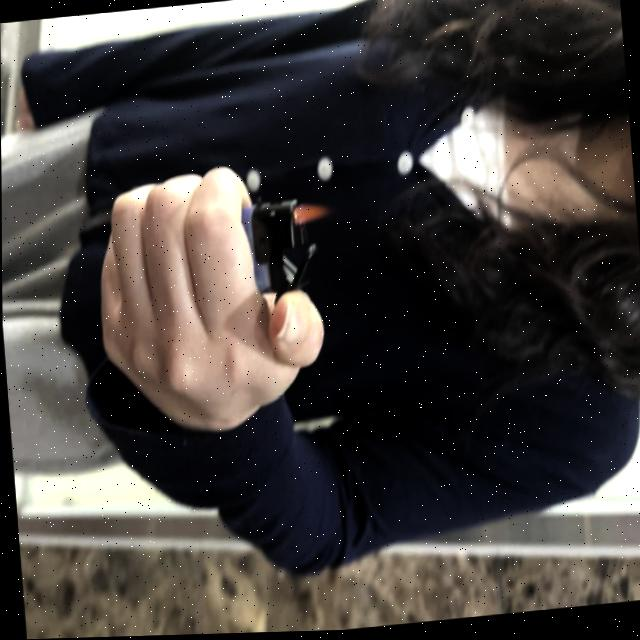Fire: (294, 199, 331, 224)
